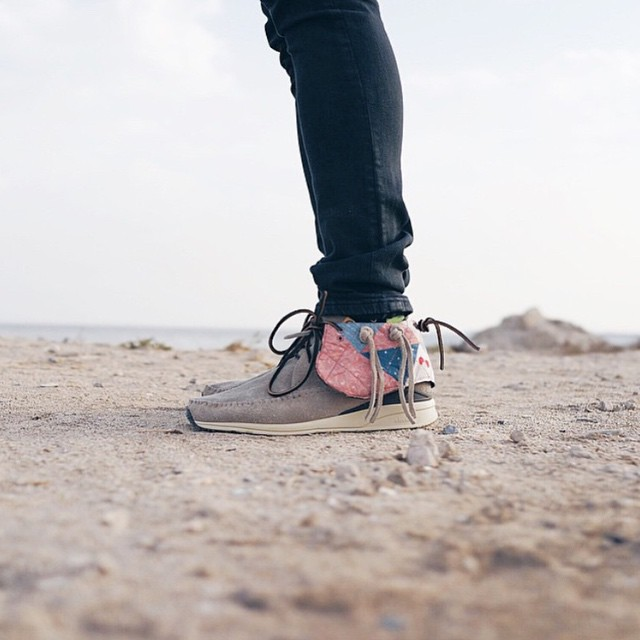sneaker: (170, 282, 468, 448)
